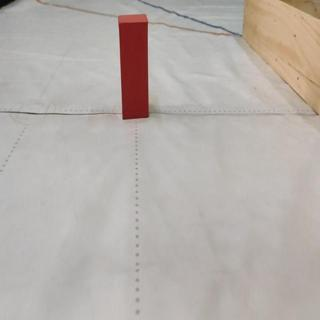redbox: (118, 13, 149, 119)
